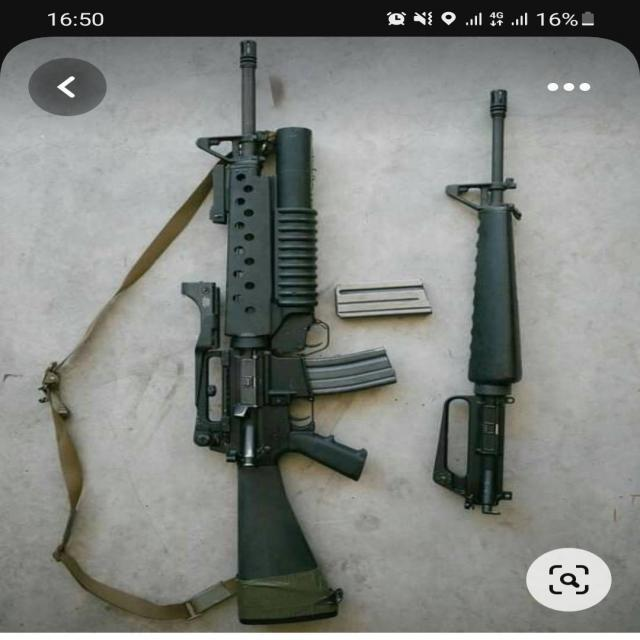m16: (128, 110, 390, 624)
